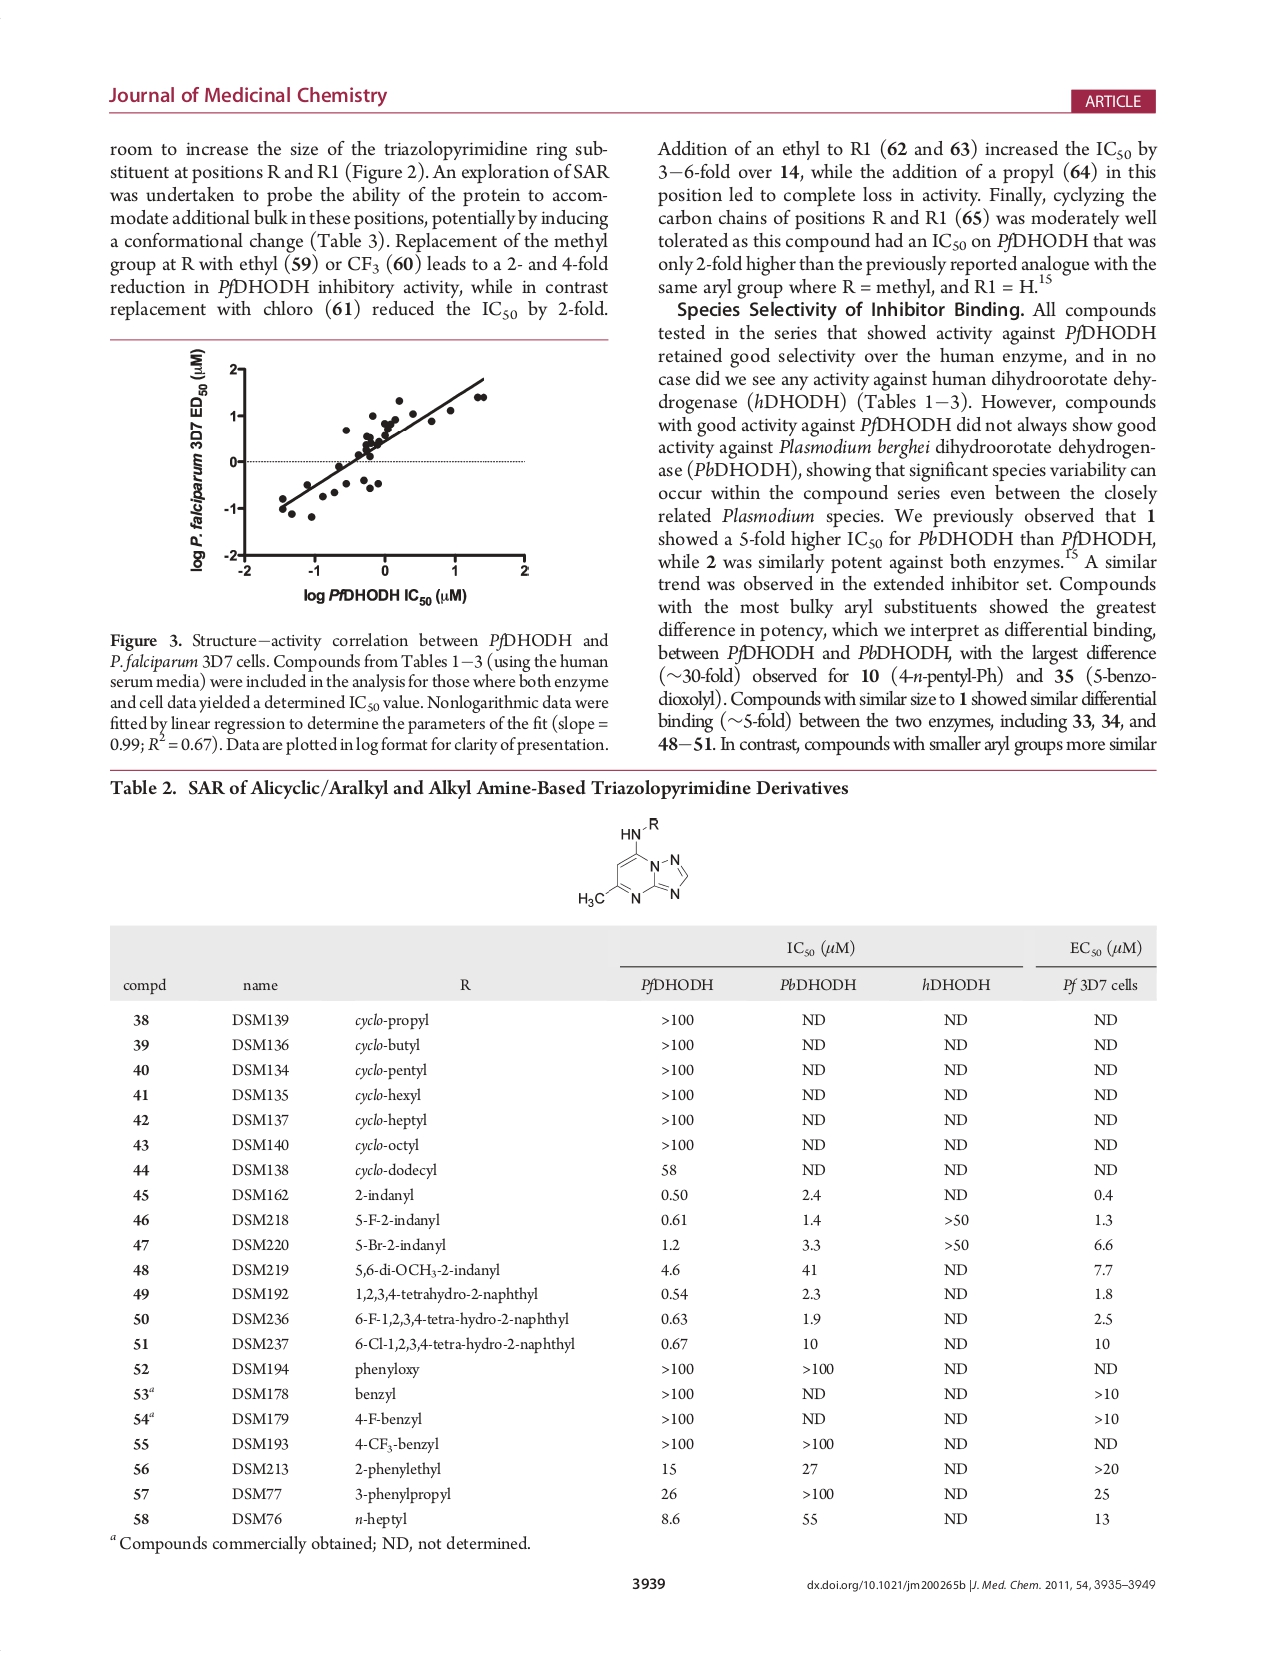exist_molecular: (574, 815, 692, 910)
